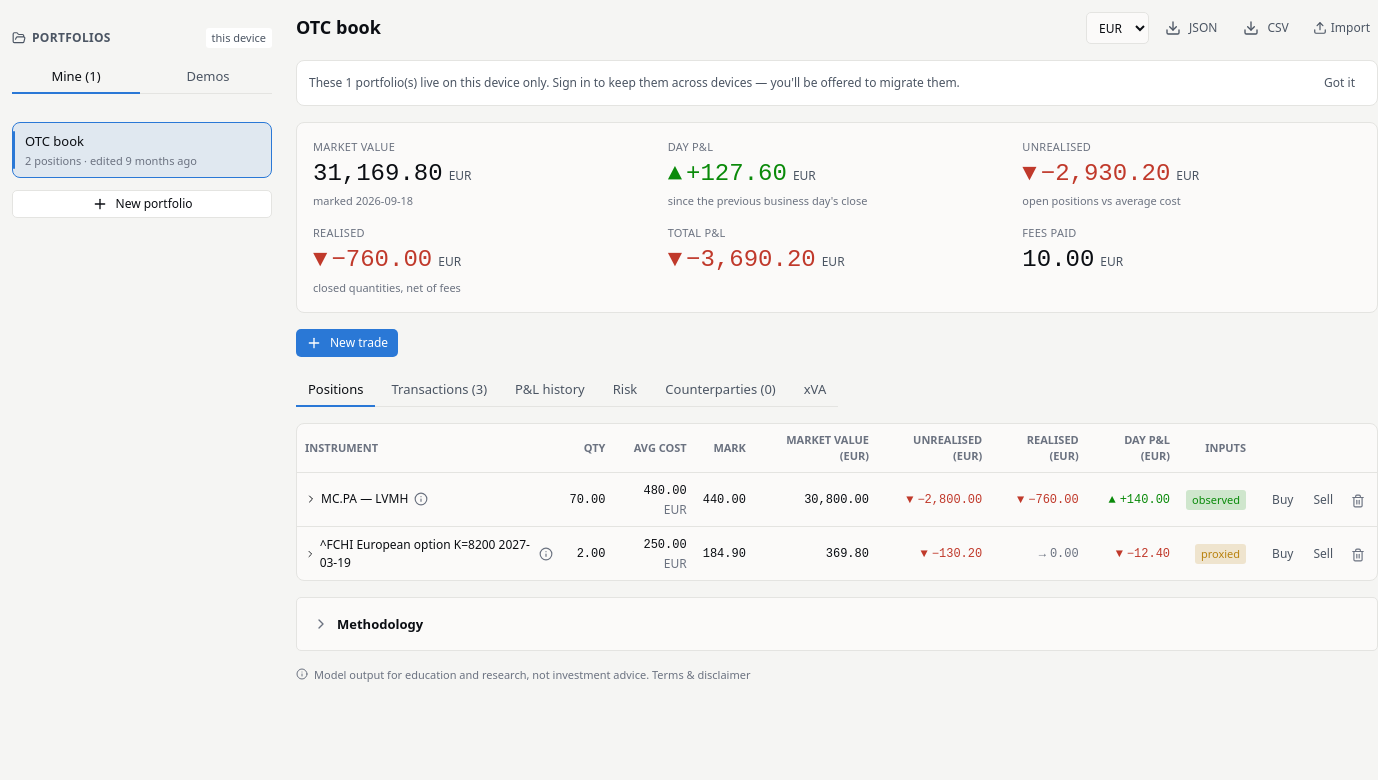
Test: counterparties of a portfolio › says what to do when no trade is under a netting set
The image size is (1378, 780).
Click the tab "xVA" at (815, 390), box [792,373,838,407]
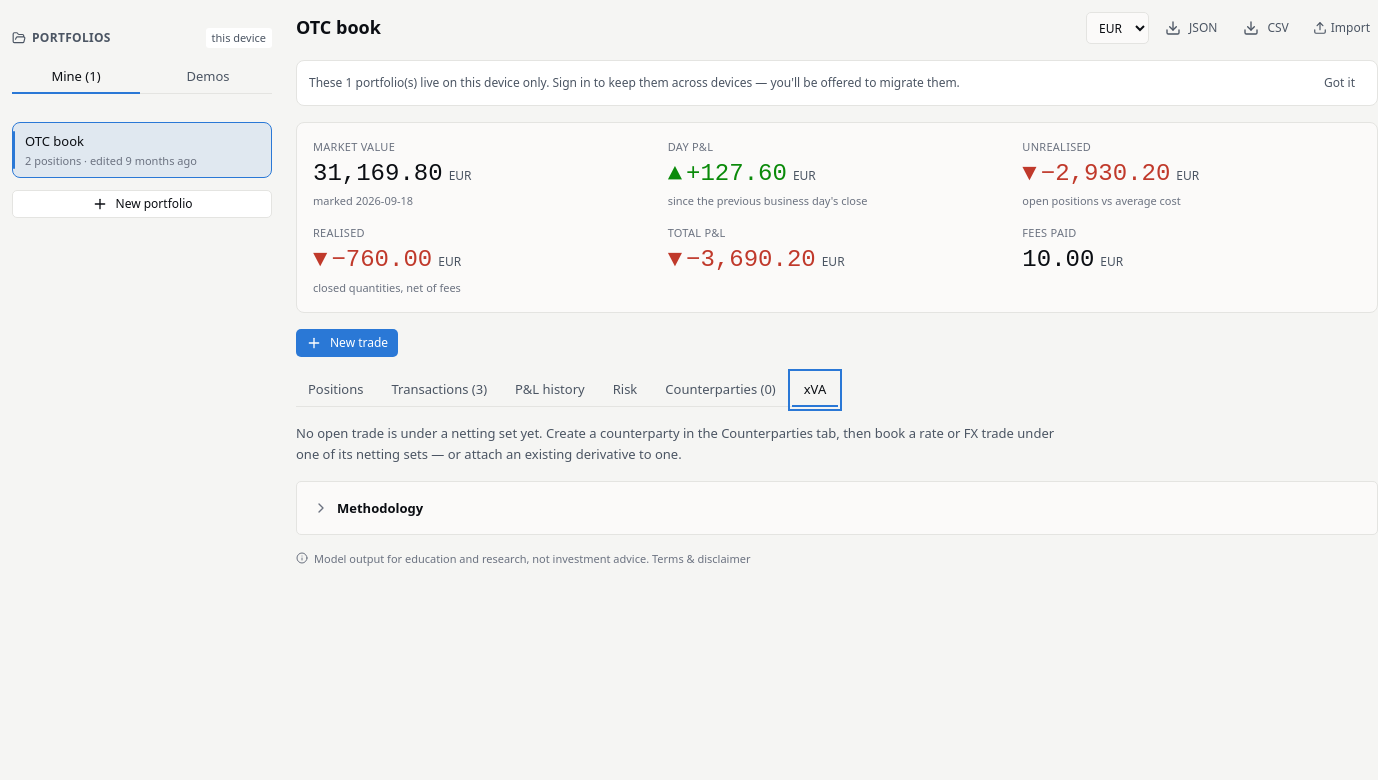
Expected: the text "No open trade is under a netting set yet" is shown, [296,424,1054,463]
